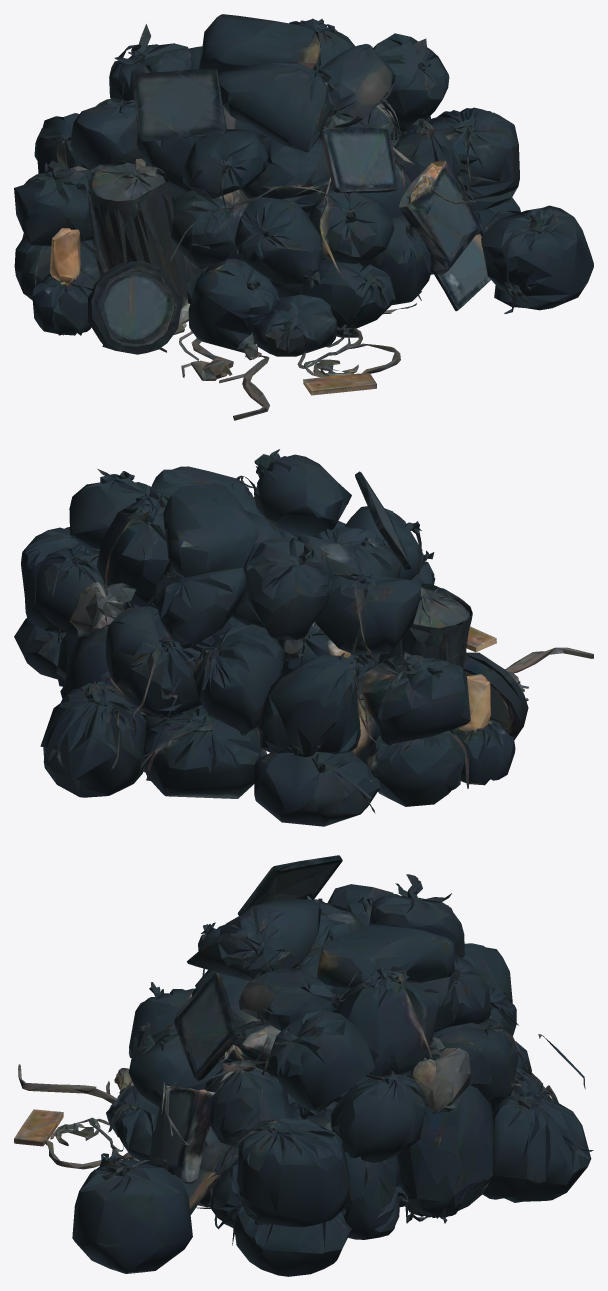
File: mx_prop_trash_pile.glb
The picture shows the model from 3 angles, top to bottom: view 1: azimuth 30°, elevation 25°; view 2: azimuth 150°, elevation 25°; view 3: azimuth 270°, elevation 25°; orthographic projection. The views are drawn at different scales.
Bounding box in the file's own units: 1.89 × 0.9327 × 1.9.
Materials: 1 (1 with a texture image).
